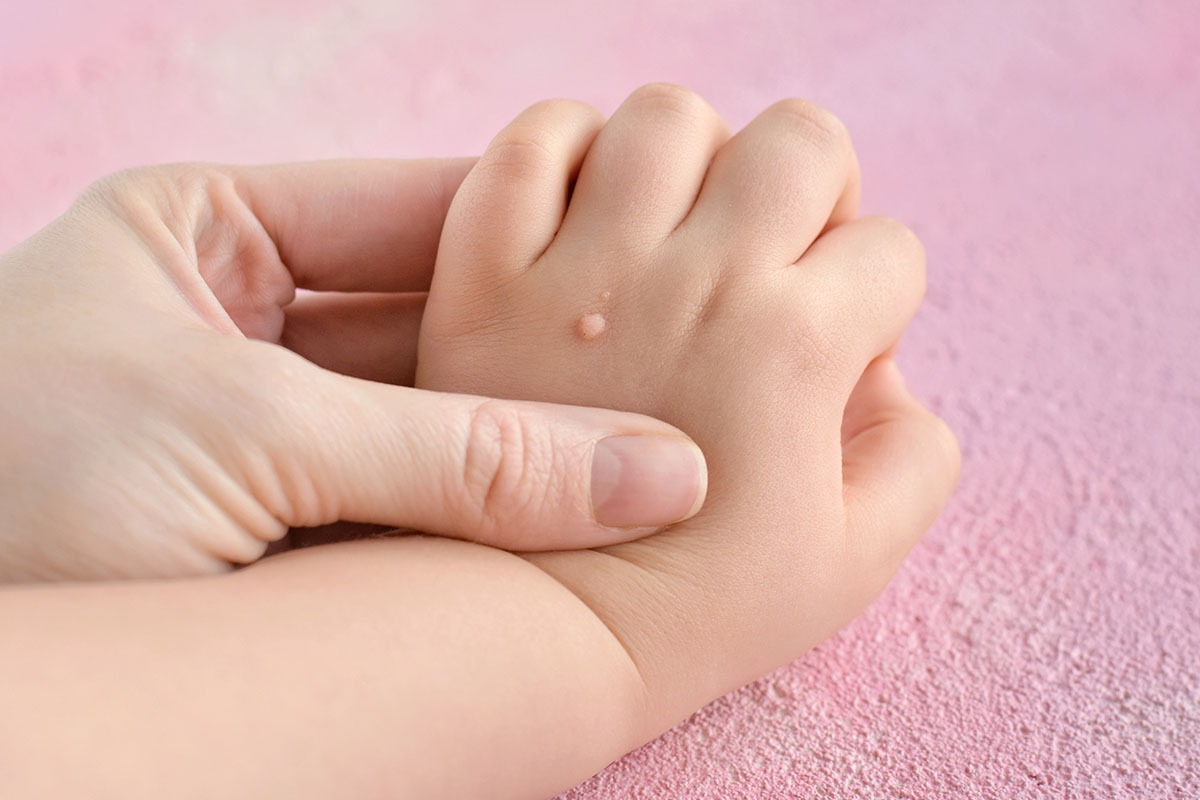Warts: (552, 273, 642, 362)
